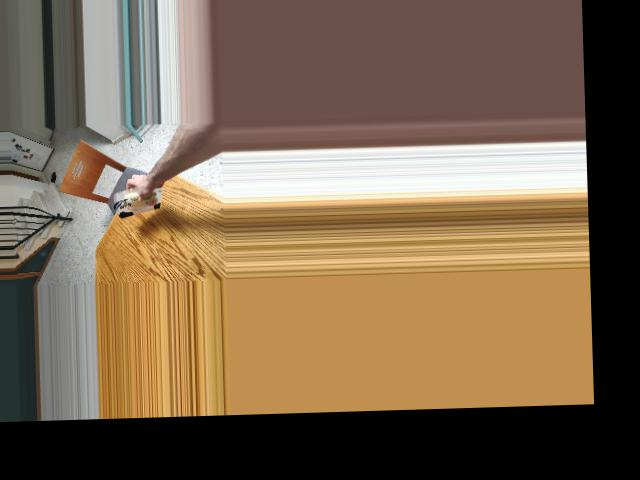cheese: (114, 185, 162, 218)
